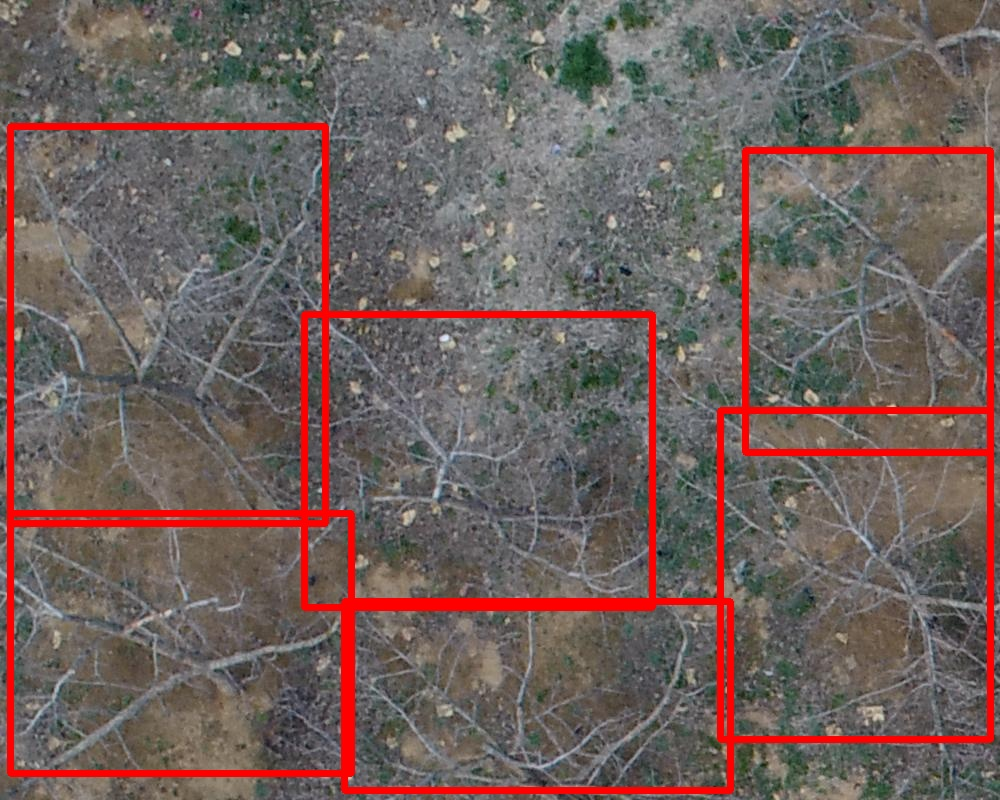apple: (10, 126, 325, 523), (304, 314, 652, 607), (720, 410, 990, 739), (10, 513, 351, 773), (745, 150, 990, 452), (344, 601, 730, 790)
